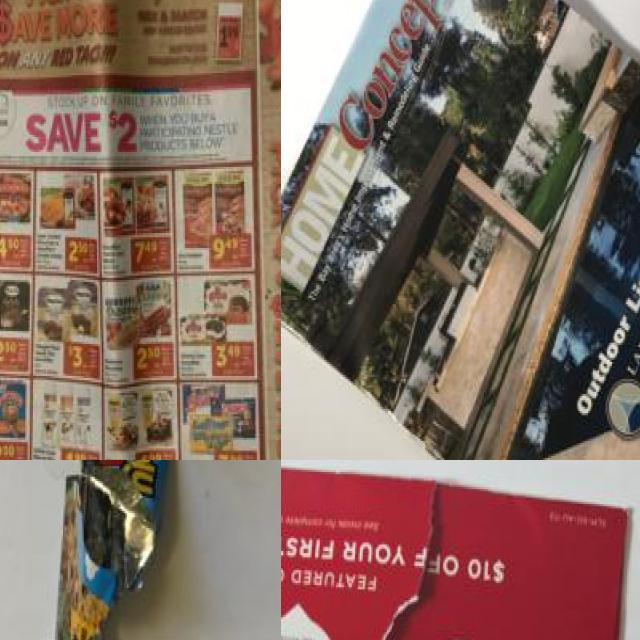paper: (281, 0, 640, 460), (0, 0, 281, 460), (281, 460, 620, 640)
trash: (49, 460, 215, 640)
